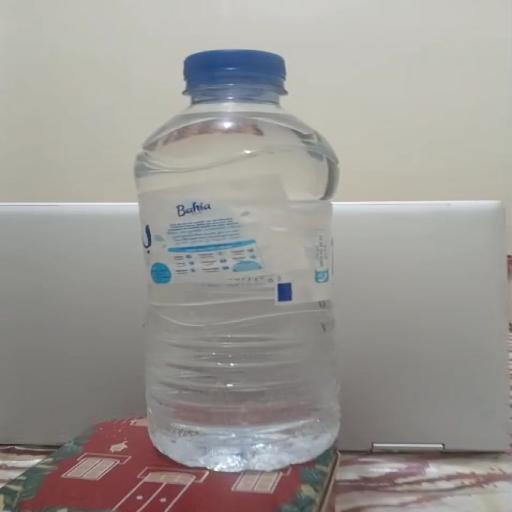bouteille conformite: (156, 44, 312, 470)
